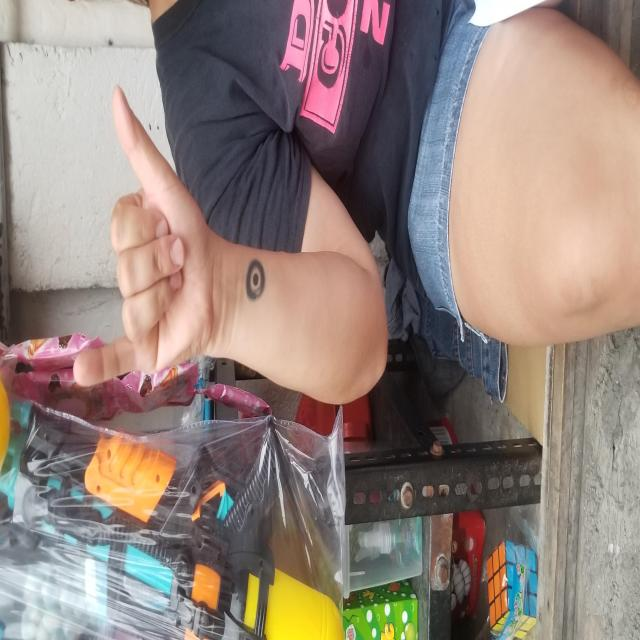Y: (253, 74, 558, 212)
